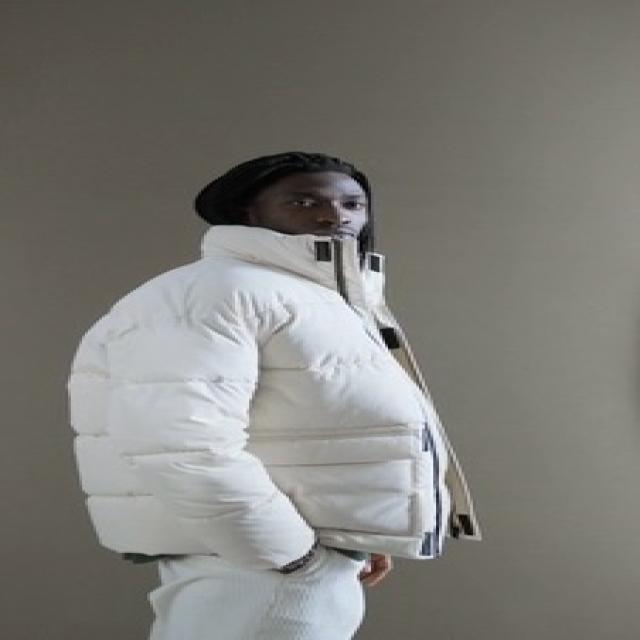Jacket_Wearer: (19, 215, 494, 557)
Person: (71, 131, 478, 630)
